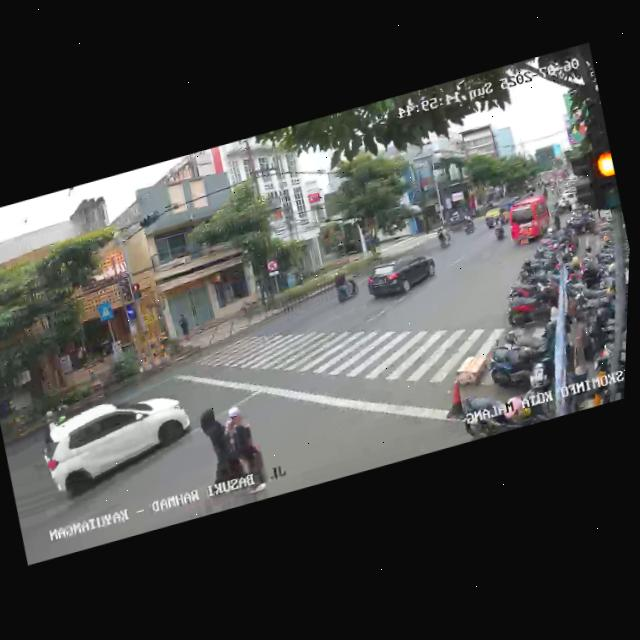car: (30, 379, 202, 510), (361, 245, 442, 308), (502, 191, 556, 249), (482, 205, 507, 229)
motorcycle: (329, 267, 359, 305), (490, 215, 508, 243), (435, 223, 454, 249), (460, 214, 476, 238)
person: (218, 398, 273, 500), (191, 403, 244, 493)
